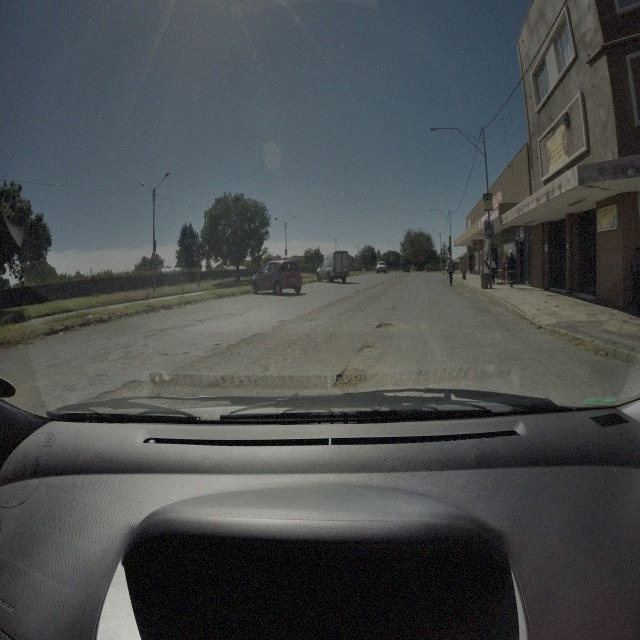pothole: (82, 377, 153, 417), (334, 363, 367, 389), (358, 344, 377, 356), (377, 319, 396, 329), (160, 352, 172, 360), (278, 317, 287, 324)
